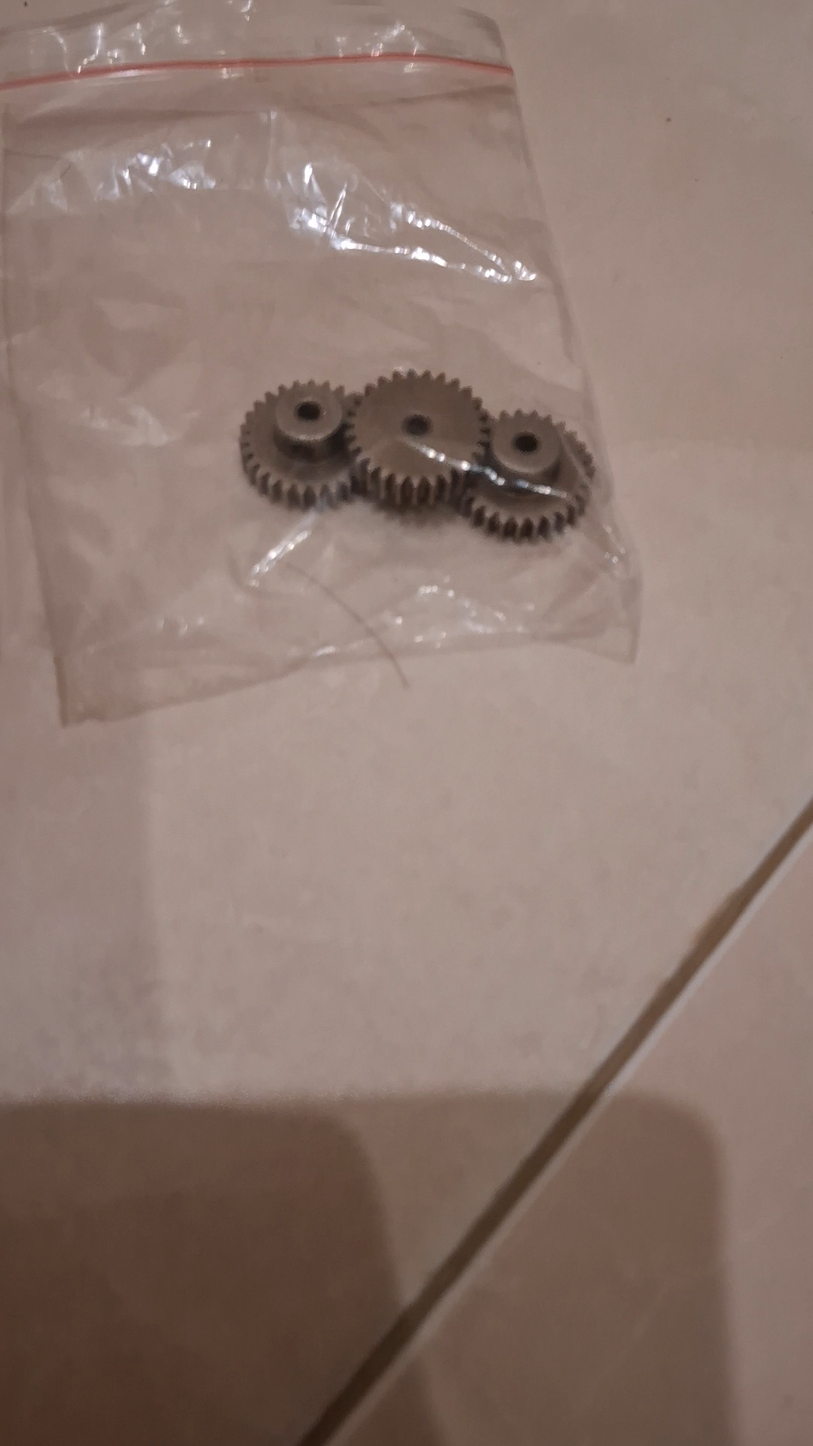spur gear: (347, 371, 489, 508), (460, 412, 594, 540), (240, 382, 356, 507)
